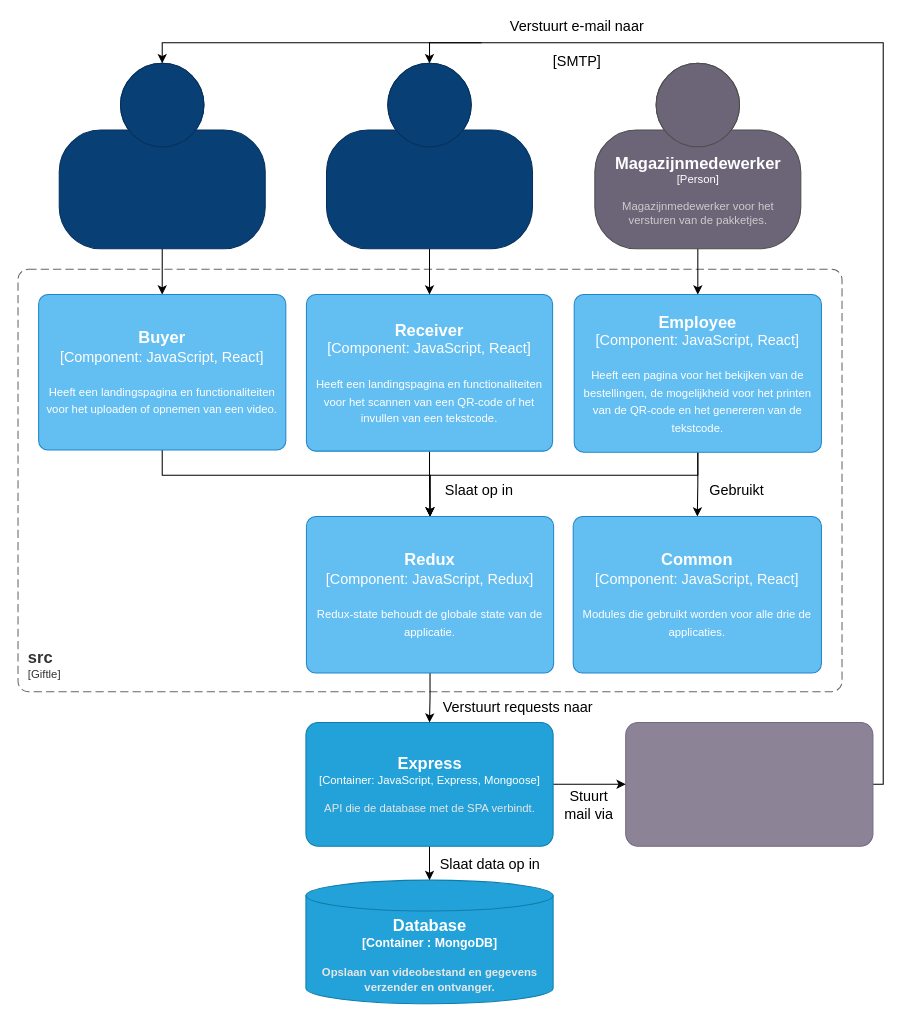
Image size: 909x1022. Some labels were removed from this diagram. The shapes that lost their labels are listed below. From the top down, each one's centre as x and y in pixels, then its label:
the point at 161,155: Verzender / Koper [Person] Iemand die een (video)boodschap wil versturen.
the point at 429,155: Ontvanger [Person] Iemand die een (video)boodschap wil bekijken.
the point at 749,784: Google SMTP [Software System] SMTP Service voor het mailen.
